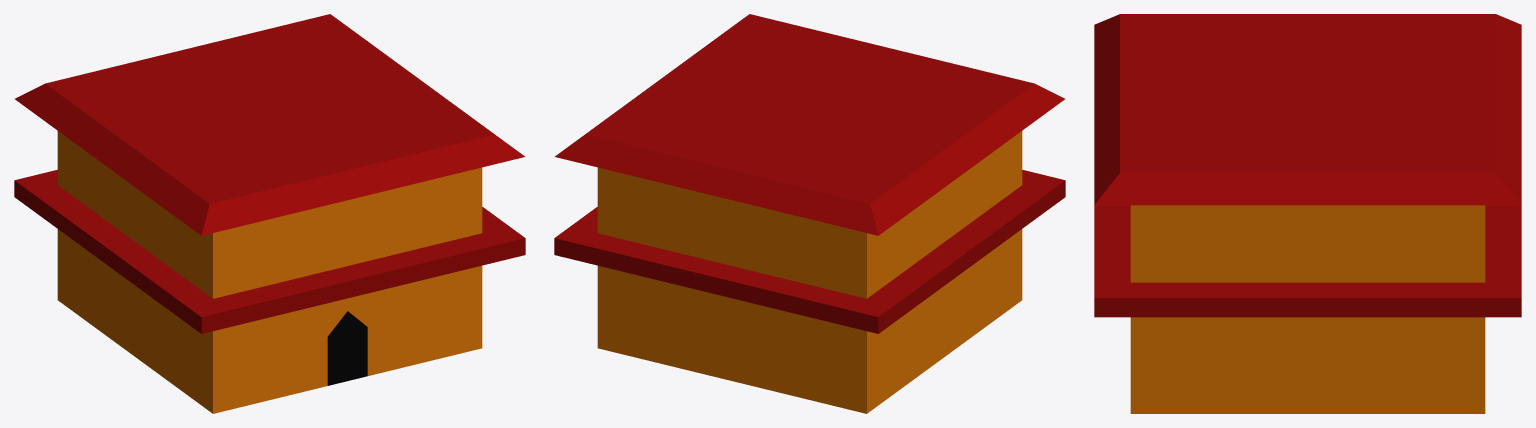
File: Warehouse.glb
The picture shows the model from 3 angles, left to right: view 1: azimuth 30°, elevation 25°; view 2: azimuth 150°, elevation 25°; view 3: azimuth 270°, elevation 25°; orthographic projection. The views are drawn at different scales.
Visible parts, largest first — view 1: Warehouse; view 2: Warehouse; view 3: Warehouse.
Boxes of the visible parts, <box> form: Warehouse: <box>14,14,525,413</box>; Warehouse: <box>554,14,1065,413</box>; Warehouse: <box>1094,14,1521,413</box>.
Size of the model in its own units: 1.29 by 0.8182 by 1.29.
